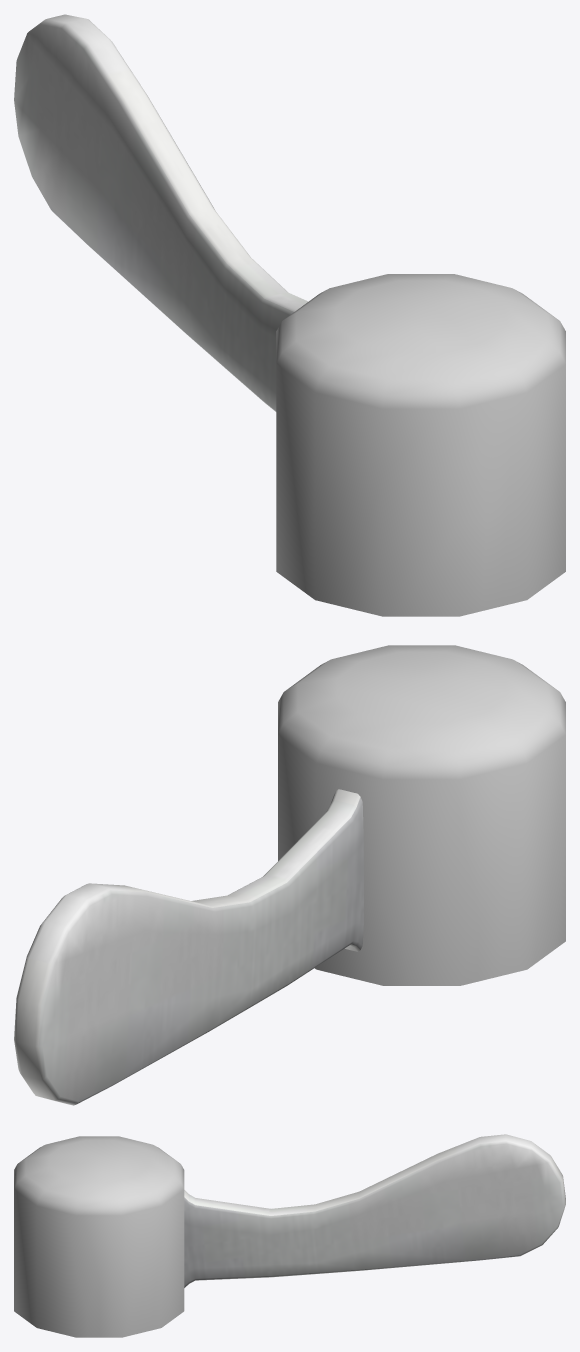
Rendered from LouDao-58.FBX.
3 views of the same model, one above another, from view 1: azimuth 30°, elevation 25°; view 2: azimuth 150°, elevation 25°; view 3: azimuth 270°, elevation 25° (orthographic). The views are drawn at different scales.
Parts seen in each view (by area): view 1: LouDao-58; view 2: LouDao-58; view 3: LouDao-58.
Part boxes in pixels (bbox=[...]): LouDao-58: bbox=[14, 14, 565, 616]; LouDao-58: bbox=[14, 645, 565, 1105]; LouDao-58: bbox=[14, 1134, 565, 1337].
Size of the model in its own units: 0.0261 by 0.0279 by 0.0846.
1 material, 1 textured.
